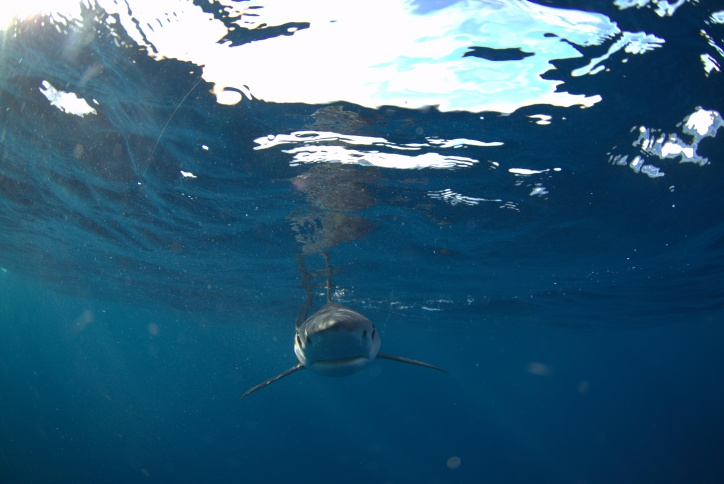Azul: (238, 270, 421, 398)
